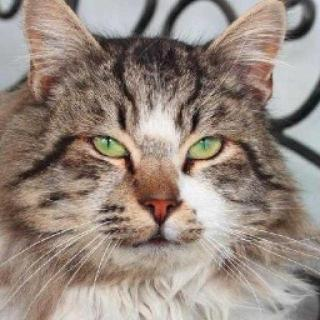cat: (22, 0, 289, 282)
nose: (134, 165, 190, 226)
